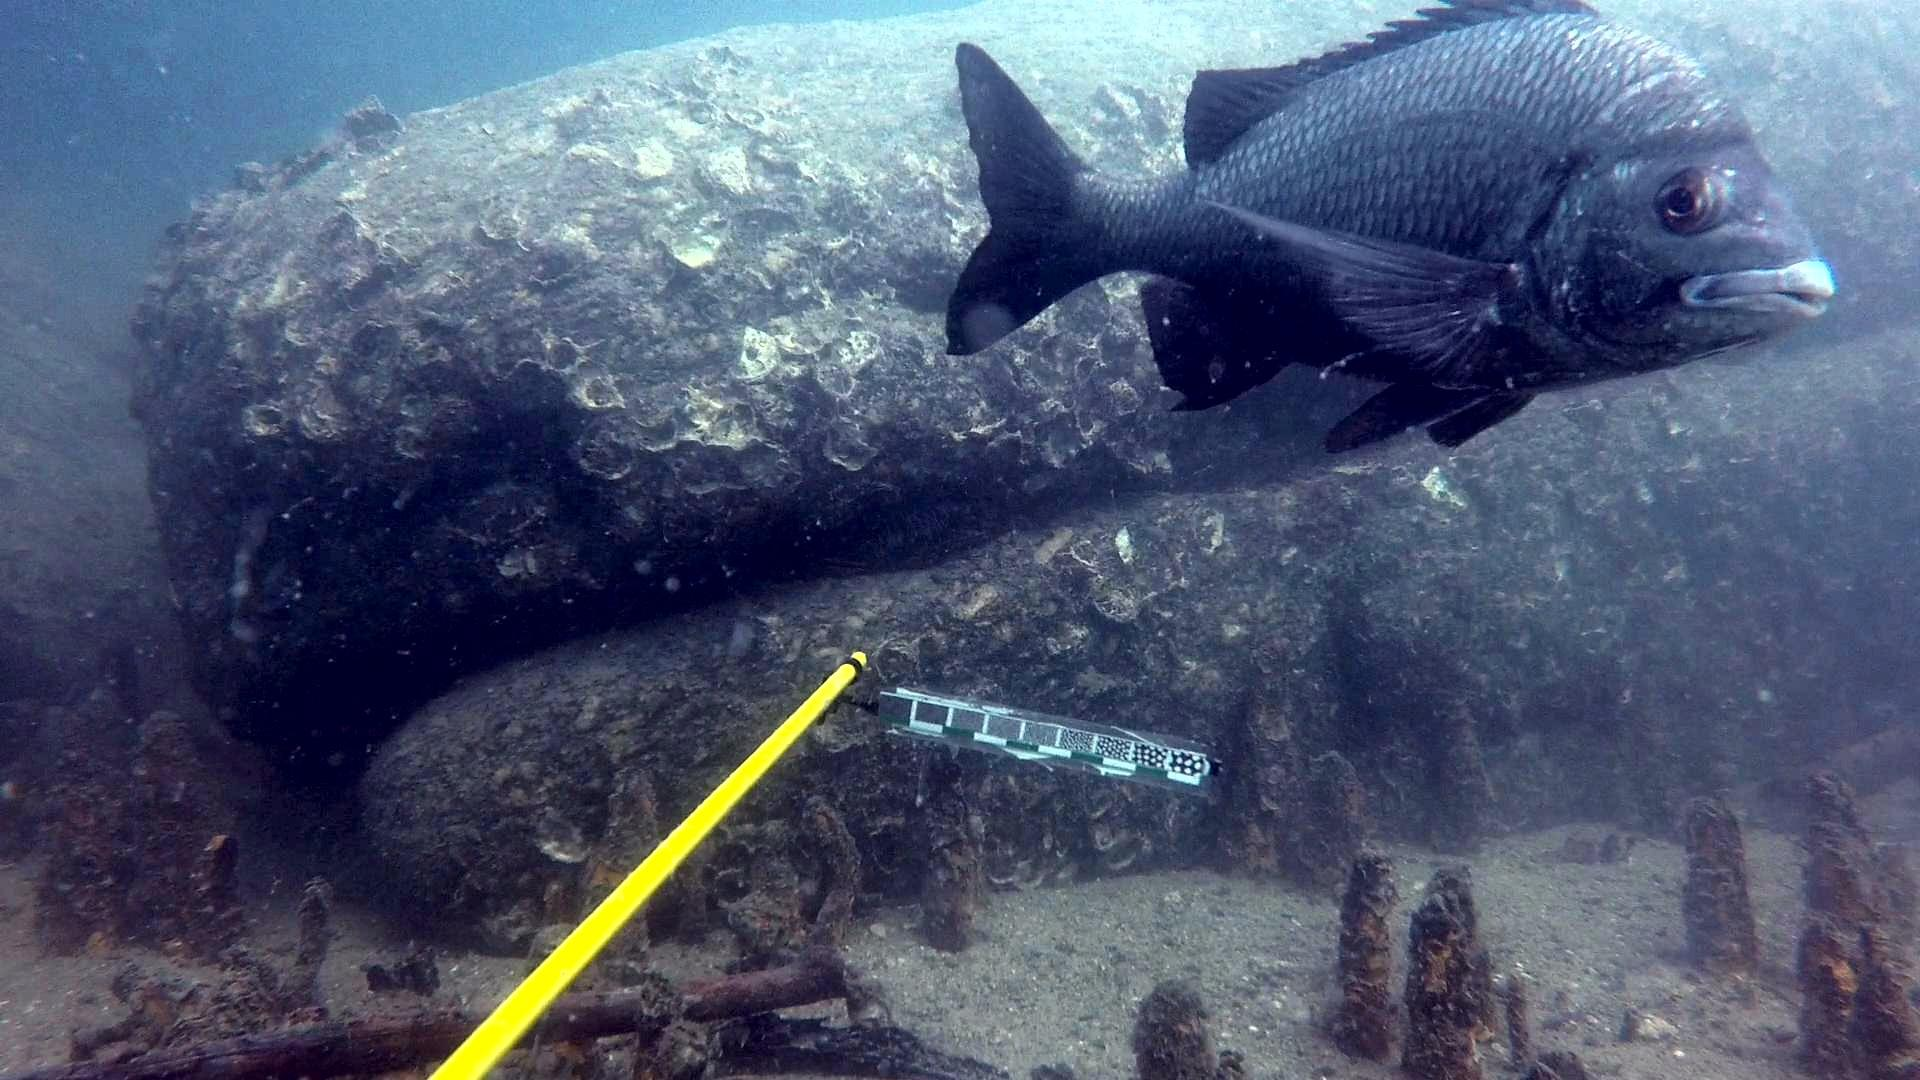acanthopagrus palmaris: (920, 5, 1849, 463)
